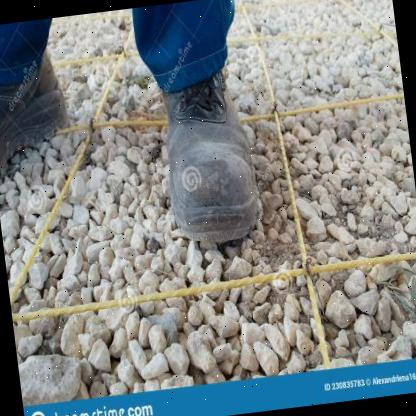bota: (150, 66, 268, 254), (0, 43, 80, 184)
